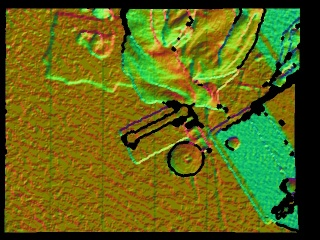station: (120, 105, 191, 166)
